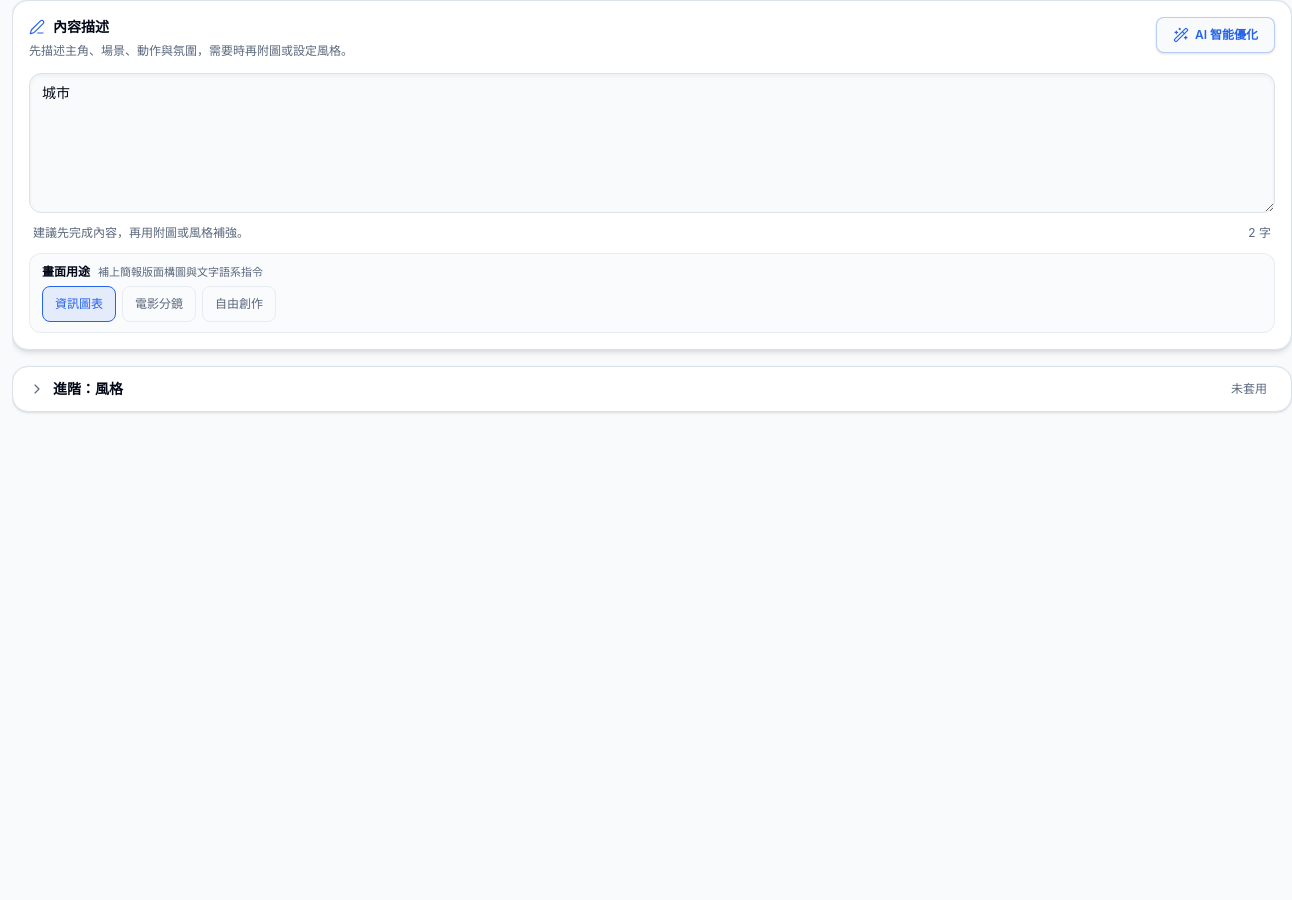
Test: ScriptEditor attachment purposes › keeps the original prompt when the suggestion is declined
Click the button "AI 智能優化". click: click(1215, 35)
box: [1156,17,1275,53]
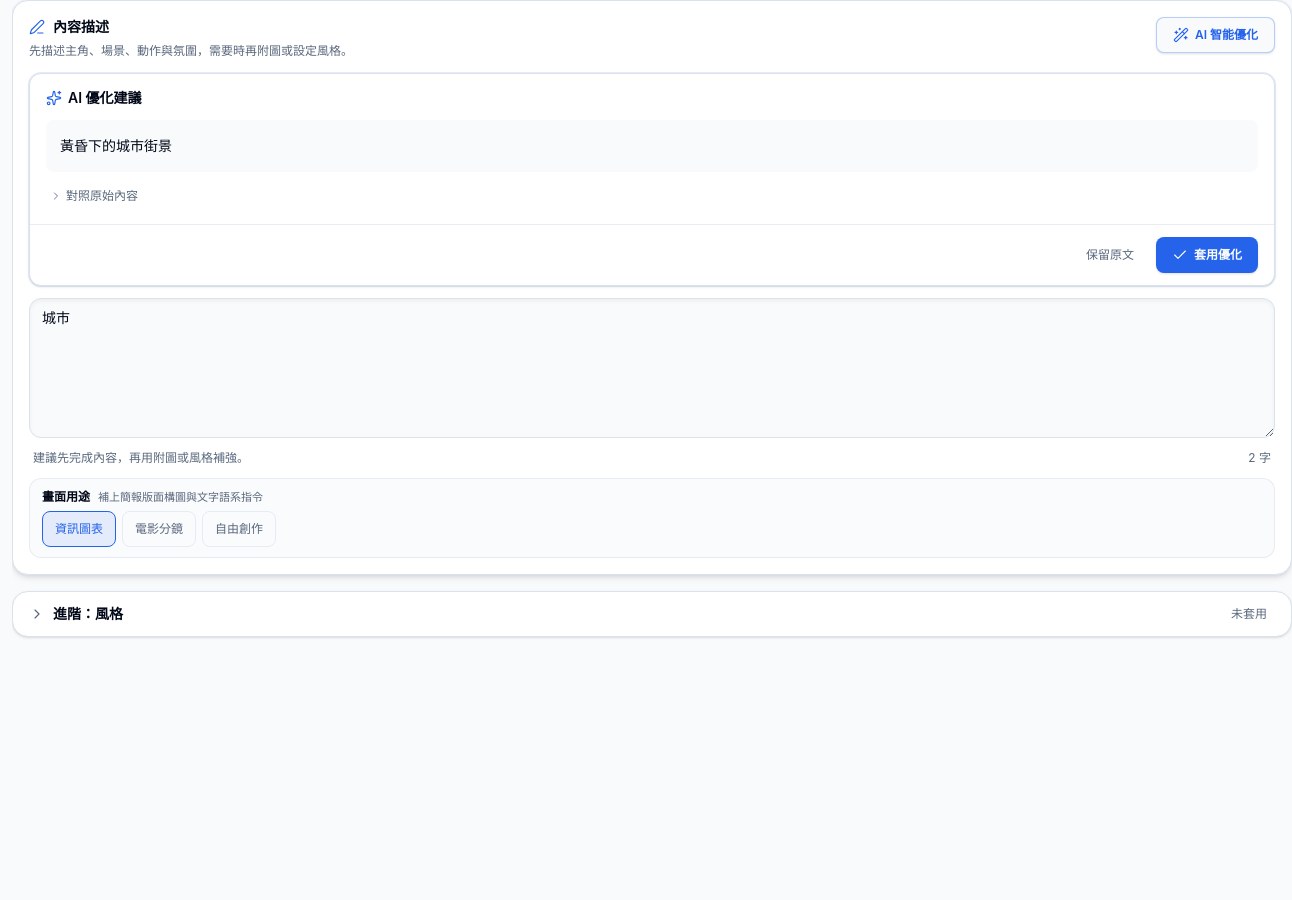
Check: the element "AI 優化建議" shows "黃昏下的城市街景", box [60,136,172,154]
Check: the heading "對照原始內容" is shown, box [50,188,138,202]
Click the button "保留原文". click: click(1110, 254)
box: [1072,236,1148,272]
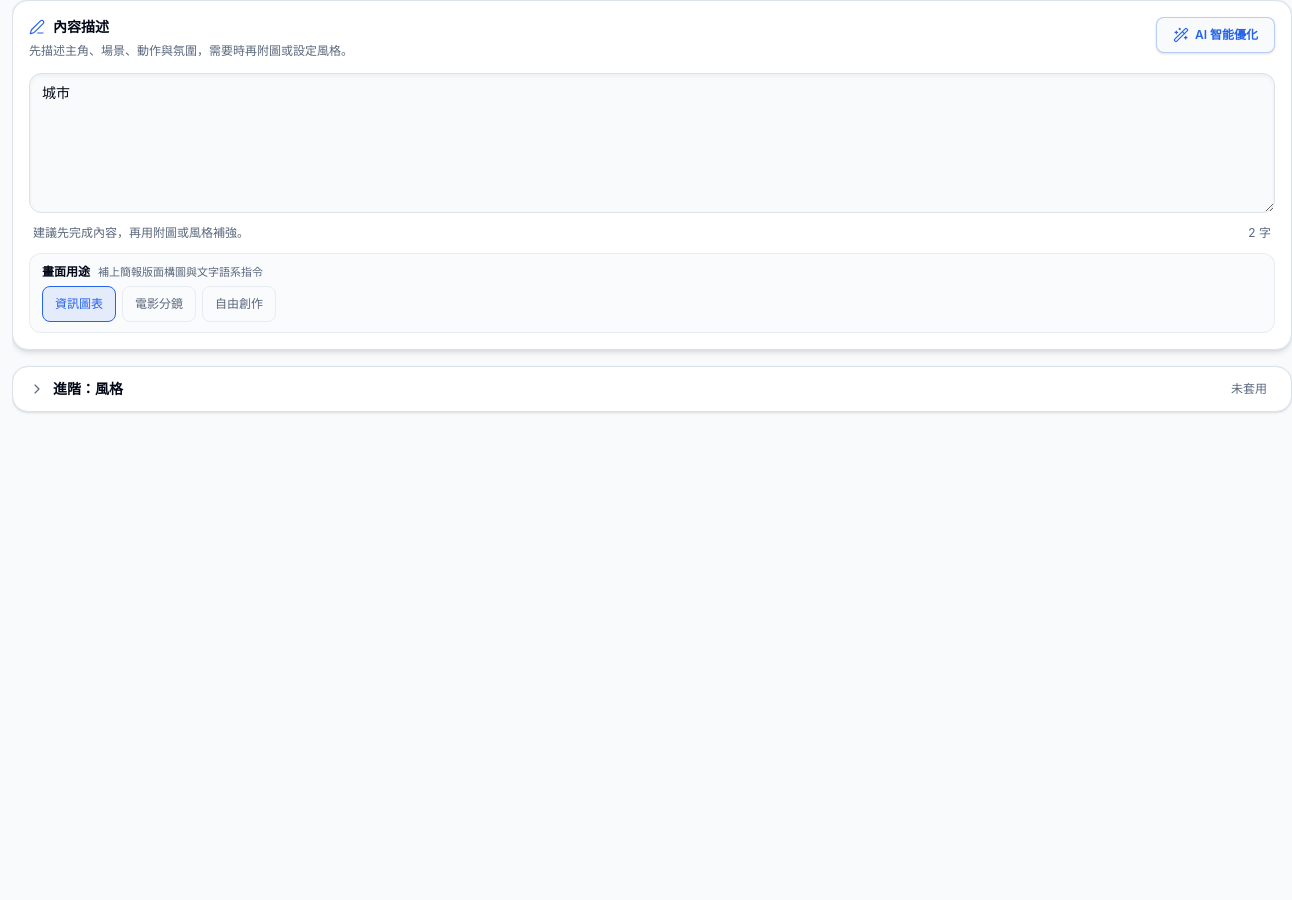
Check: the text box labelled "內容描述" holds "城市", box [29,72,1275,212]
Check: the heading "AI 優化建議" is gone
